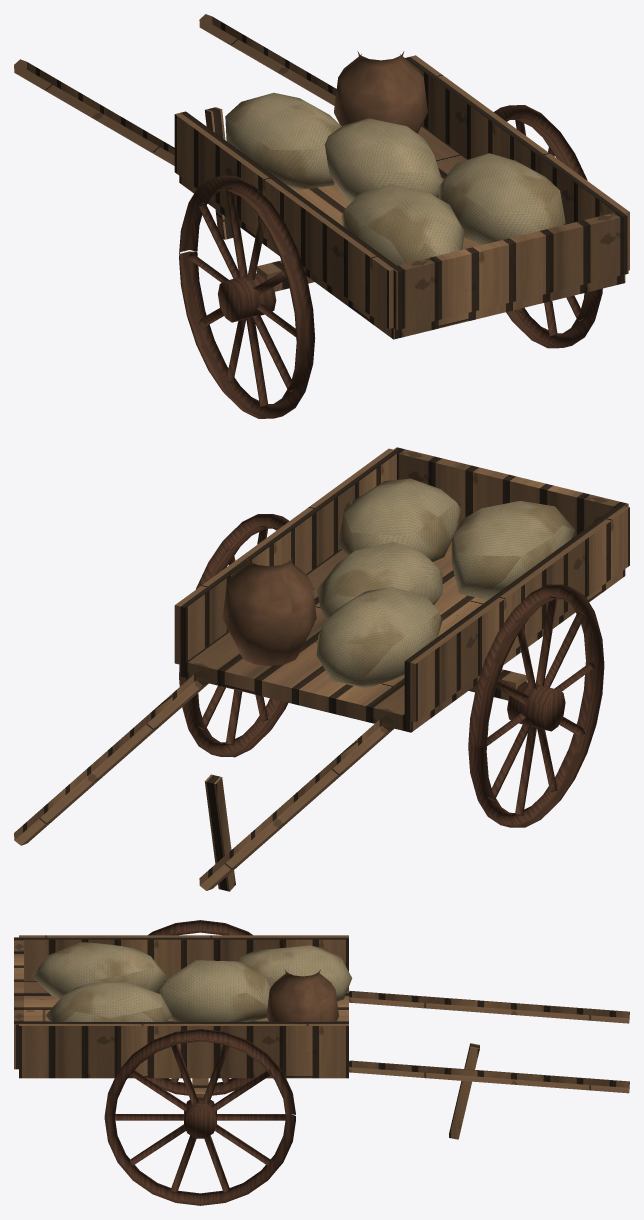
File: cart.glb
The picture shows the model from 3 angles, top to bottom: view 1: azimuth 30°, elevation 25°; view 2: azimuth 150°, elevation 25°; view 3: azimuth 270°, elevation 25°; orthographic projection. The views are drawn at different scales.
Visible parts, largest first — view 1: CartBed, CartSacks, CartWheels, CartJar; view 2: CartBed, CartSacks, CartWheels, CartJar; view 3: CartBed, CartSacks, CartWheels, CartJar.
Part boxes in pixels (bbox=[...]): CartBed: bbox=[14, 14, 629, 339]; CartSacks: bbox=[225, 92, 565, 265]; CartWheels: bbox=[179, 105, 602, 418]; CartJar: bbox=[334, 51, 427, 133]; CartBed: bbox=[14, 447, 629, 891]; CartSacks: bbox=[316, 478, 575, 688]; CartWheels: bbox=[179, 514, 604, 827]; CartJar: bbox=[222, 557, 316, 665]; CartBed: bbox=[14, 935, 629, 1139]; CartSacks: bbox=[31, 942, 352, 1021]; CartWheels: bbox=[104, 920, 295, 1205]; CartJar: bbox=[266, 969, 338, 1021].
Size of what is drawn, in the model's own units: 1.76 by 1.35 by 3.73.
4 materials, 4 textured.
